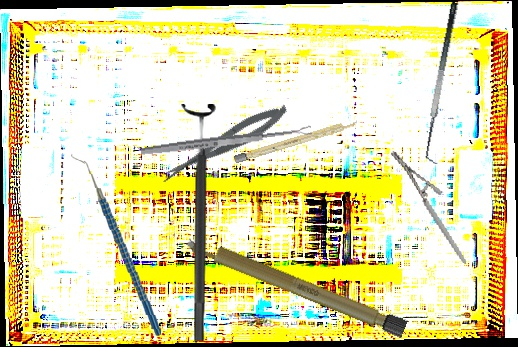Chopper: (71, 148, 161, 341)
Fixation Ring: (180, 104, 217, 341)
Micro Scissor: (154, 98, 293, 188)
Needle Holder: (390, 140, 467, 275)
Scalpel Handle: (183, 232, 409, 339), (233, 118, 359, 164)
Spatula Surgical: (416, 1, 472, 165)
Surgical Spoon: (140, 125, 313, 157)
